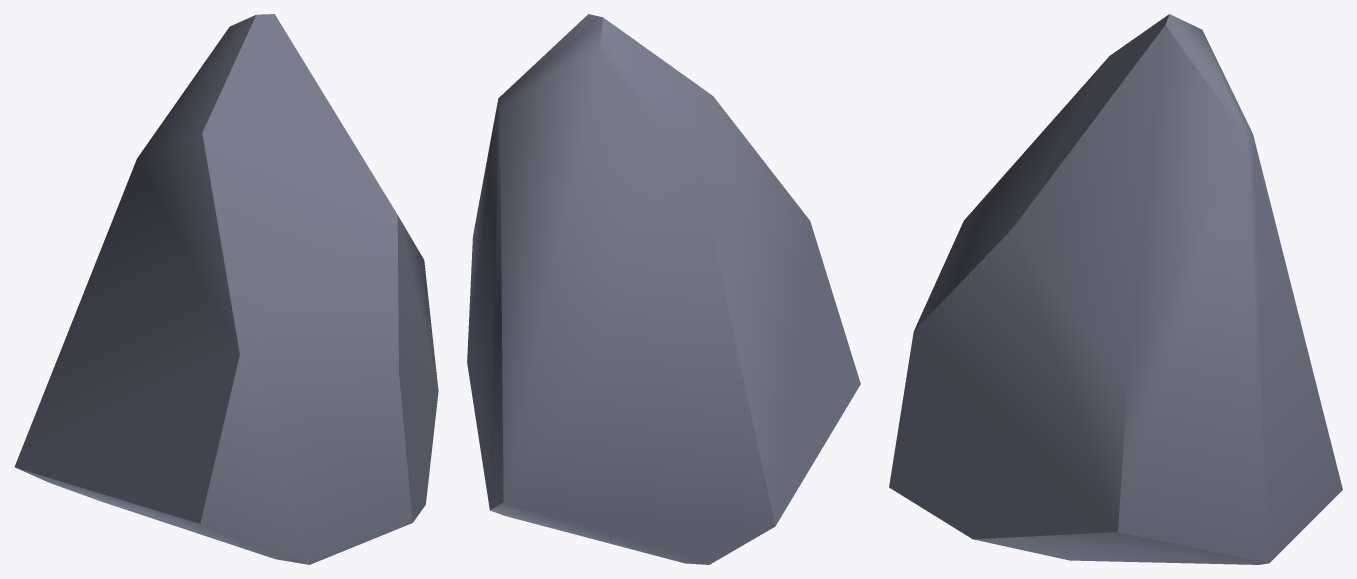
File: Sm_Rocks1L.fbx
The picture shows the model from 3 angles, left to right: view 1: azimuth 30°, elevation 25°; view 2: azimuth 150°, elevation 25°; view 3: azimuth 270°, elevation 25°; orthographic projection. The views are drawn at different scales.
Visible parts, largest first — view 1: Sm_Rocks1L; view 2: Sm_Rocks1L; view 3: Sm_Rocks1L.
Boxes of the visible parts, bbox=[...] form: Sm_Rocks1L: bbox=[14, 14, 438, 564]; Sm_Rocks1L: bbox=[467, 14, 860, 564]; Sm_Rocks1L: bbox=[889, 14, 1342, 564].
Bounding box in the file's own units: 28.45 × 37.04 × 28.12.
